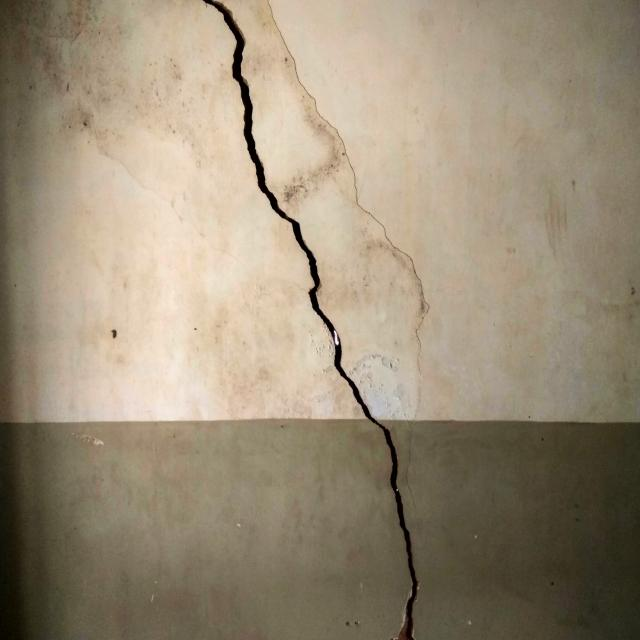Wall_Cracks: (191, 3, 441, 640)
